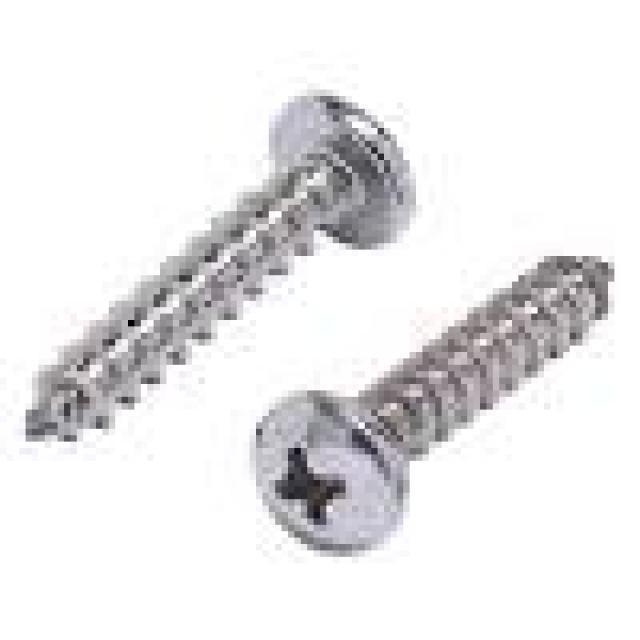Screw: (26, 96, 416, 442), (250, 256, 614, 550)
